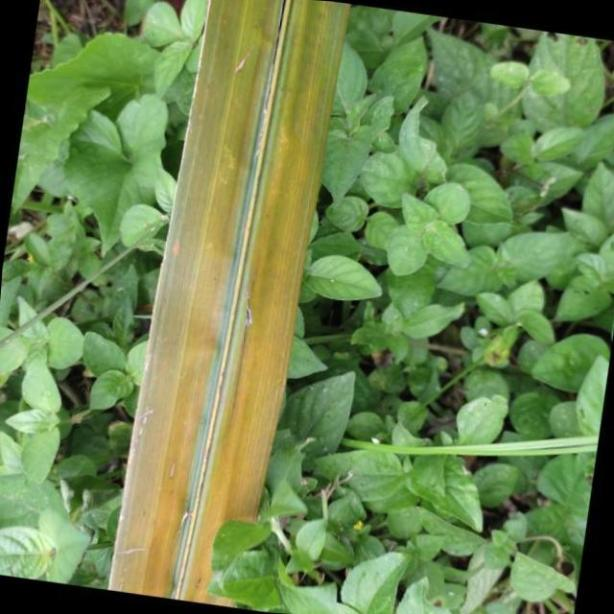Megnesium: (108, 1, 353, 614)
